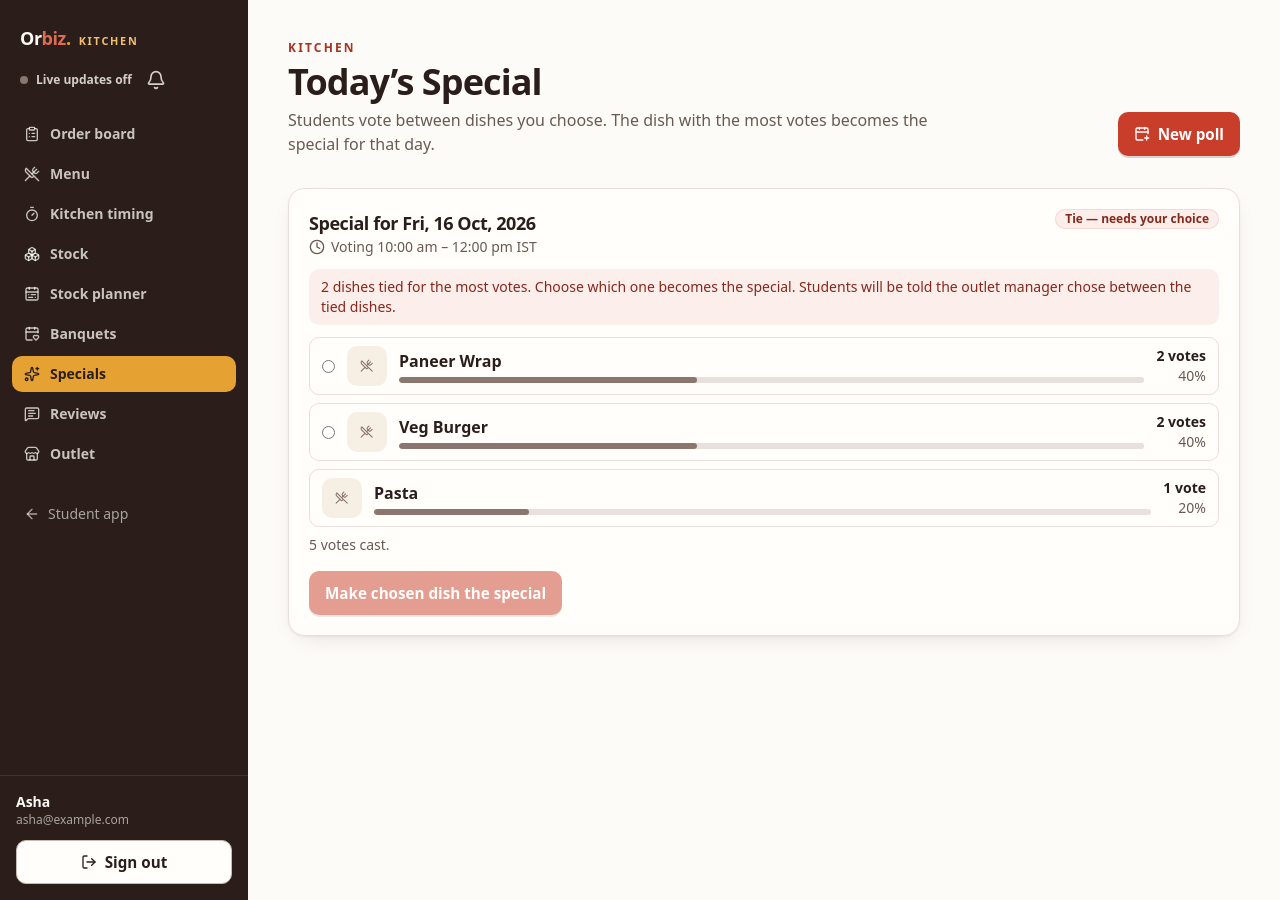
Test: Today’s Special management › resolves a tie by choosing only among the tied dishes
The width and height of the screenshot is (1280, 900).
Expected: the text "Tie — needs your choice" is shown, [1055,209,1219,229]
Expected: the button "Make chosen dish the special" is disabled, [309,571,562,615]
Click the radio button named "Choose Veg Burger".
click(328, 432)  # box [322,426,335,438]
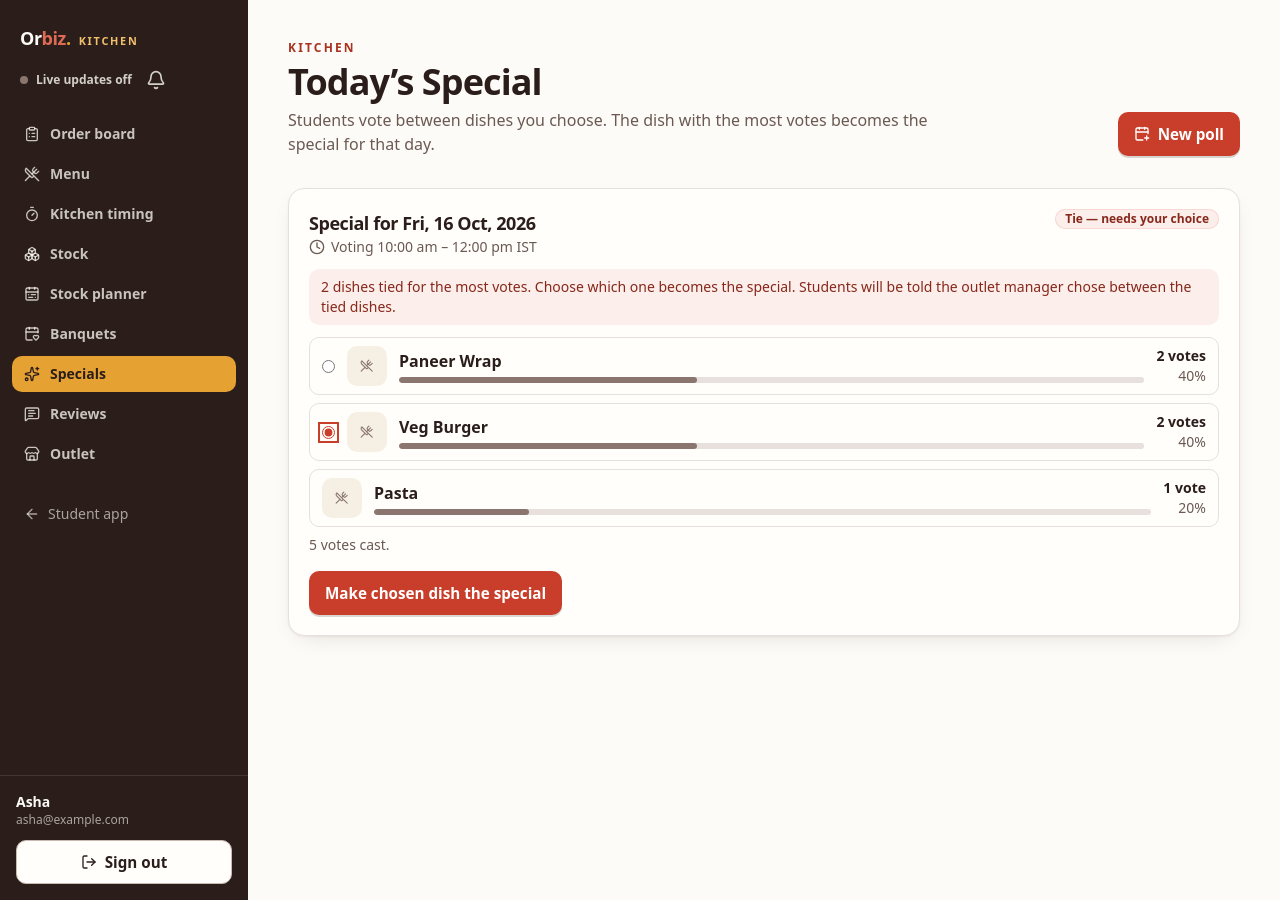
Click the button "Make chosen dish the special".
click(436, 593)  # box [309,571,562,615]
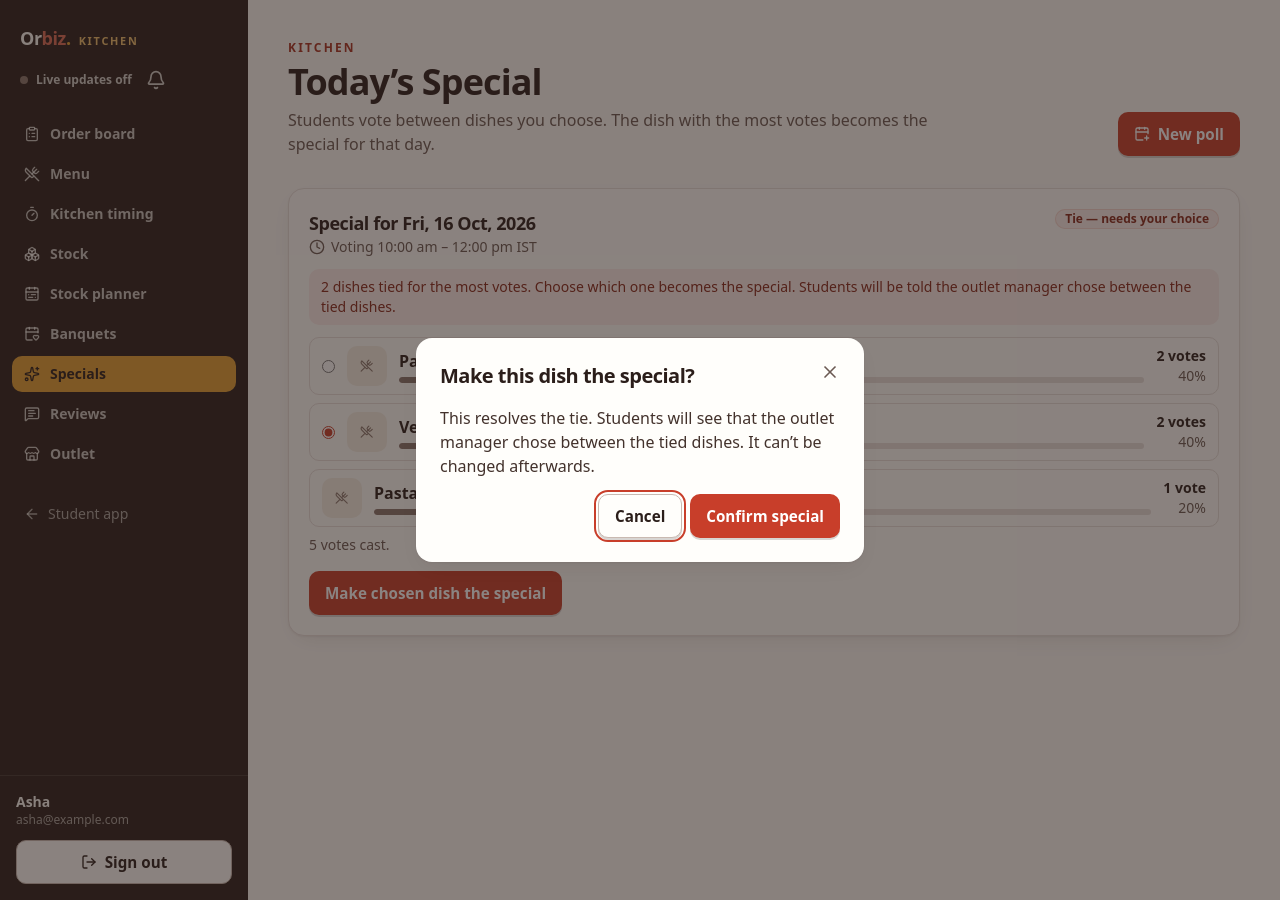
Click the button "Confirm special".
click(765, 516)  # box [690,494,840,538]
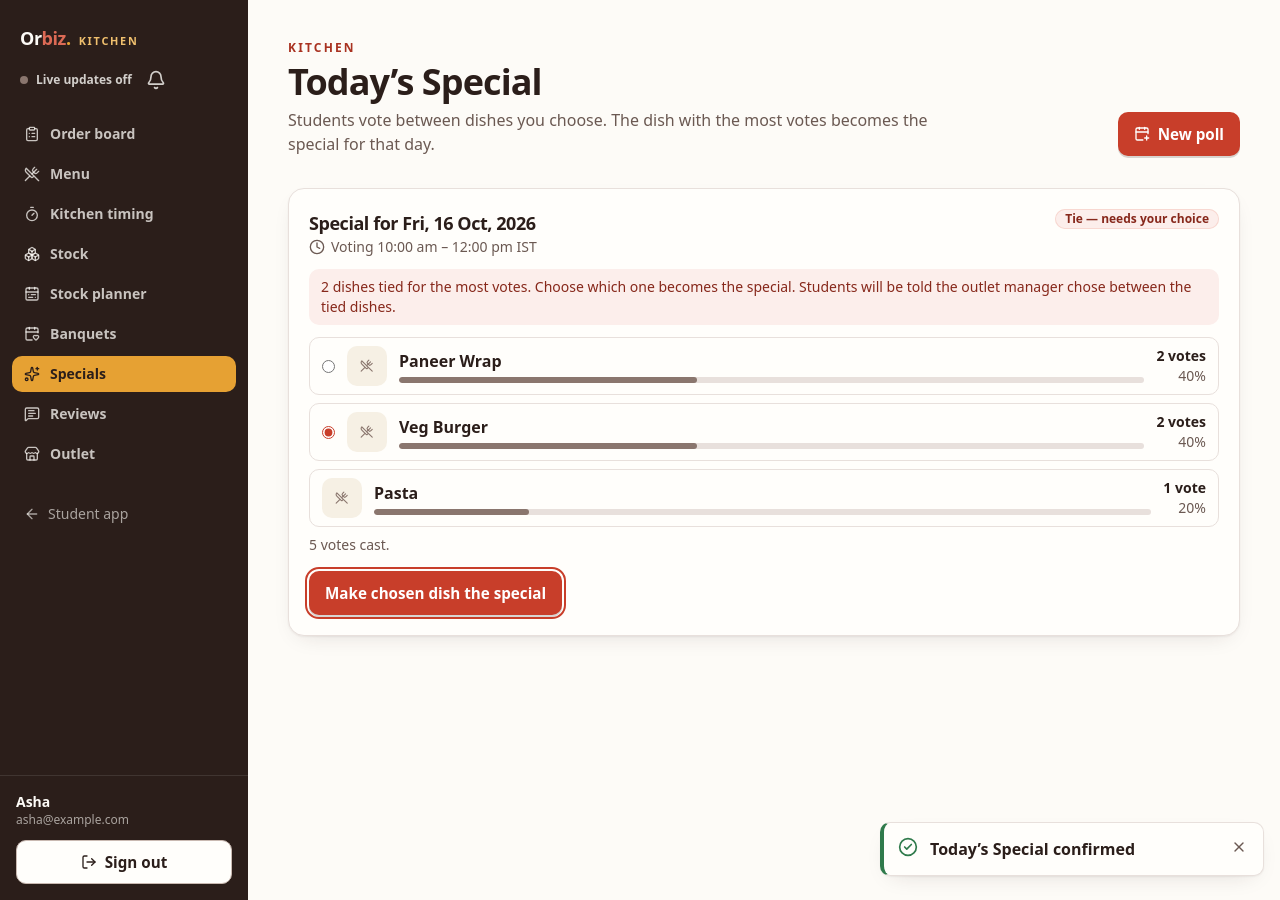
Result: the text "Today’s Special confirmed" is shown at [930,838,1135,860]
